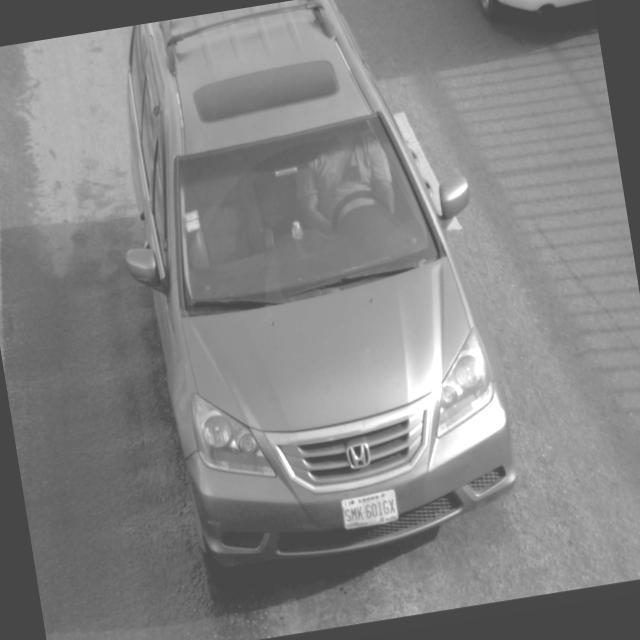windshield: (165, 102, 453, 314)
